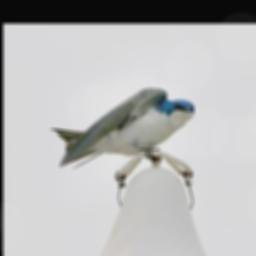Swallow: (49, 87, 196, 172)
